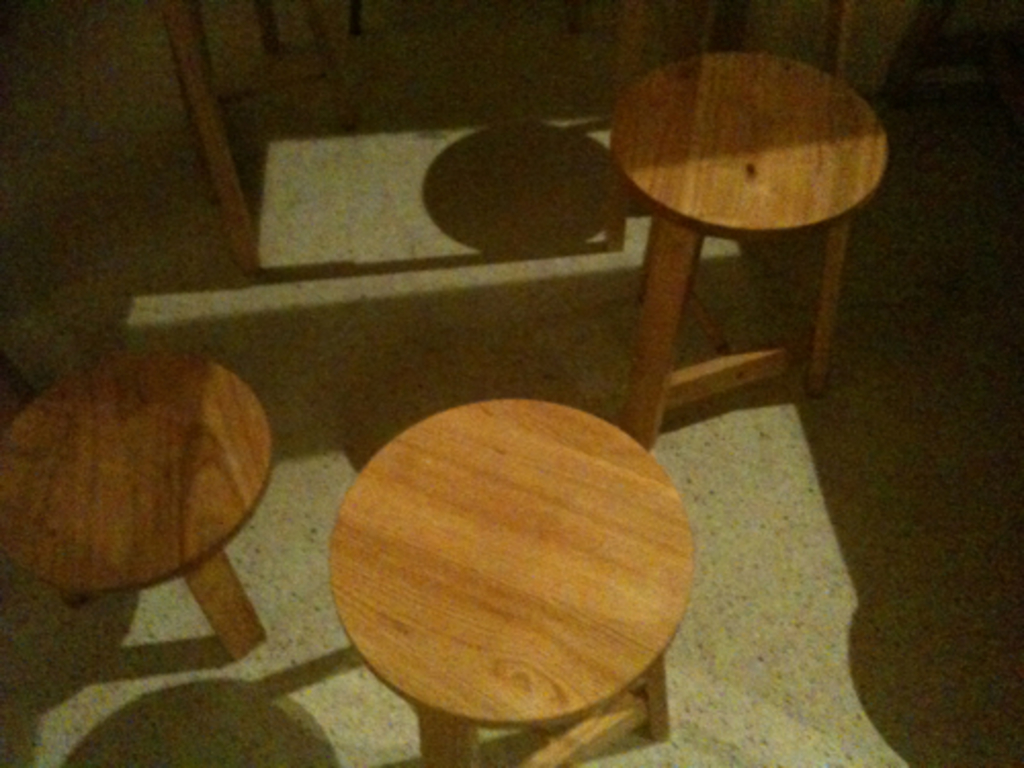Chair: (575, 0, 901, 477), (324, 397, 692, 766), (0, 344, 274, 659)
